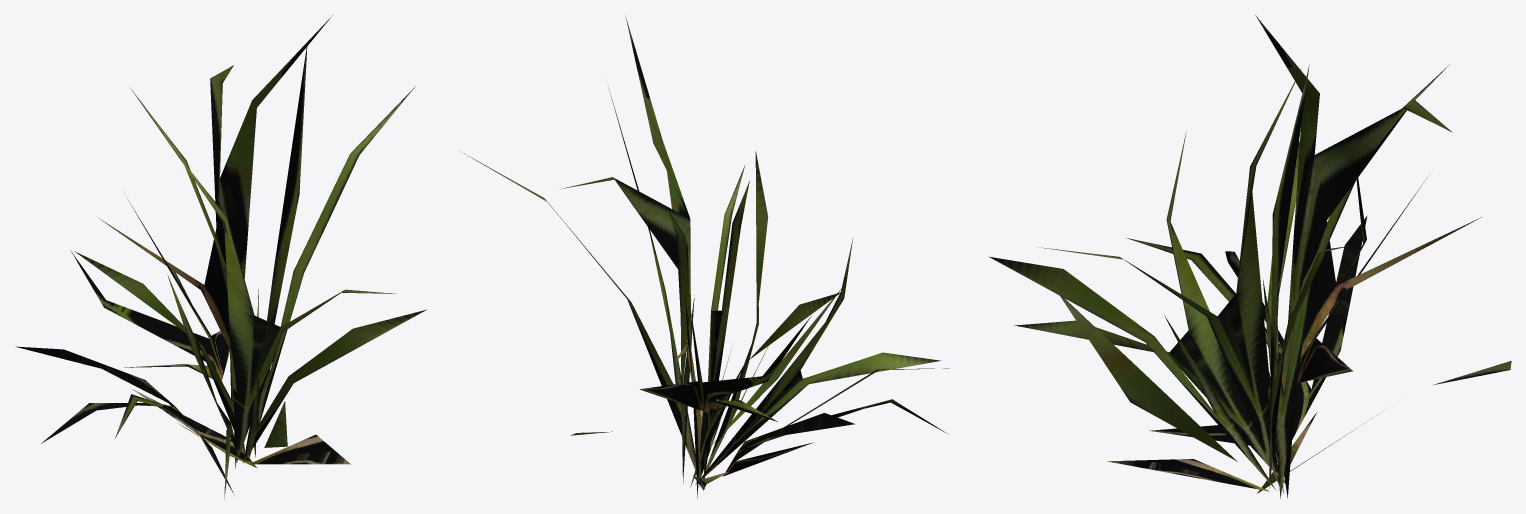
File: grass-lod.glb
3 renders of one model, left to right at view 1: azimuth 30°, elevation 25°; view 2: azimuth 150°, elevation 25°; view 3: azimuth 270°, elevation 25°, orthographic. The views are drawn at different scales.
Visible parts, largest first — view 1: grass_medium_01_small_a_LOD0; view 2: grass_medium_01_small_a_LOD0; view 3: grass_medium_01_small_a_LOD0.
Part boxes in pixels (x1=…): grass_medium_01_small_a_LOD0: x1=15, y1=15, x2=426, y2=498; grass_medium_01_small_a_LOD0: x1=458, y1=16, x2=949, y2=498; grass_medium_01_small_a_LOD0: x1=989, y1=15, x2=1511, y2=499.
Size of the model in its own units: 0.1237 by 0.1223 by 0.1085.
Materials: 1 (1 with a texture image).
